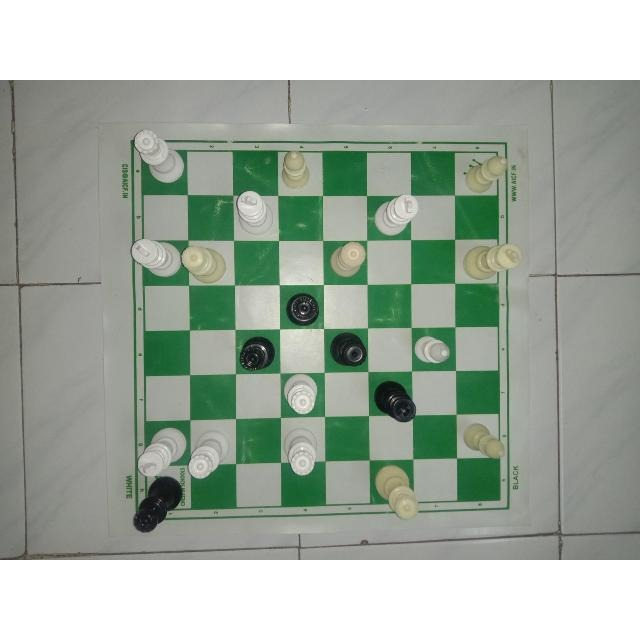black-king: (371, 375, 419, 423)
black-queen: (129, 478, 187, 538), (236, 332, 276, 372), (329, 330, 370, 368), (284, 288, 320, 327)
white-bishop: (459, 415, 511, 463), (461, 151, 513, 194), (279, 150, 316, 190), (411, 332, 451, 367)
white-king: (136, 422, 186, 480), (460, 240, 526, 283), (370, 192, 421, 240), (129, 236, 180, 276), (234, 188, 276, 235)
white-queen: (132, 125, 188, 184), (373, 460, 421, 520), (187, 427, 233, 479), (180, 243, 229, 285), (279, 426, 319, 476), (328, 239, 368, 280), (282, 374, 318, 417)
